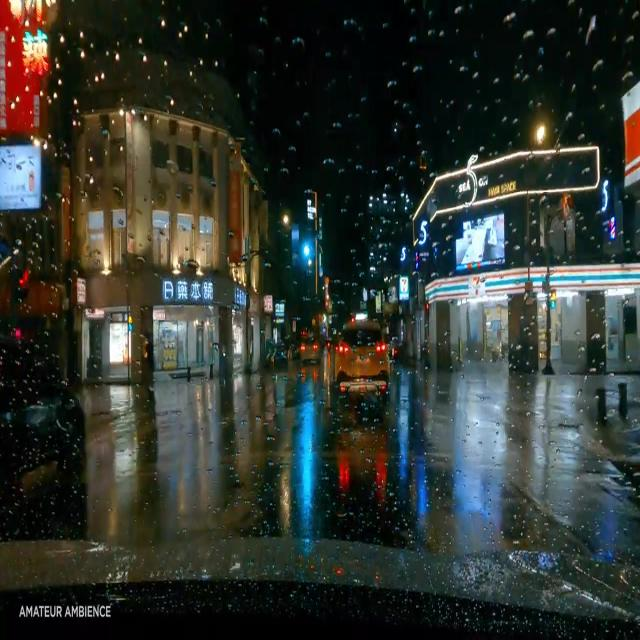Car: (3, 341, 83, 489), (335, 320, 388, 409), (300, 333, 319, 361)
